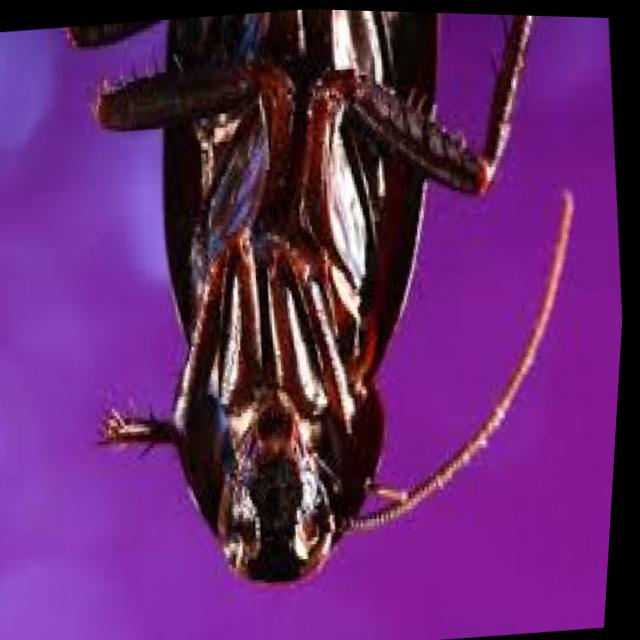Cockroach: (39, 2, 632, 633)
